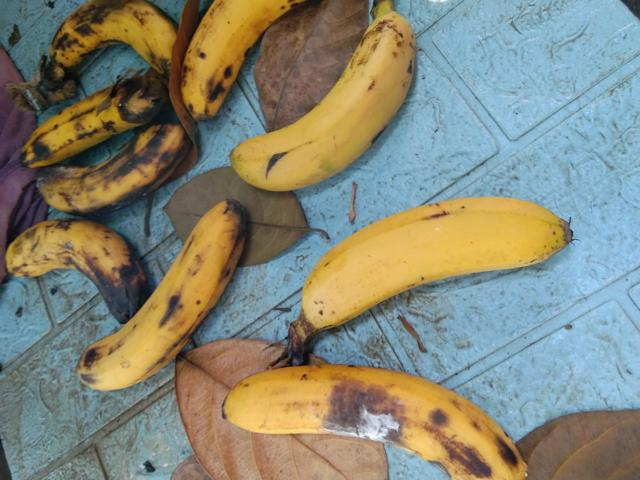freshripe: (297, 191, 581, 353), (226, 11, 422, 204)
ripe: (65, 218, 250, 394), (180, 0, 316, 121)
rotten: (214, 363, 547, 479), (21, 135, 179, 224), (21, 76, 157, 172), (1, 227, 146, 317), (22, 0, 199, 67)
